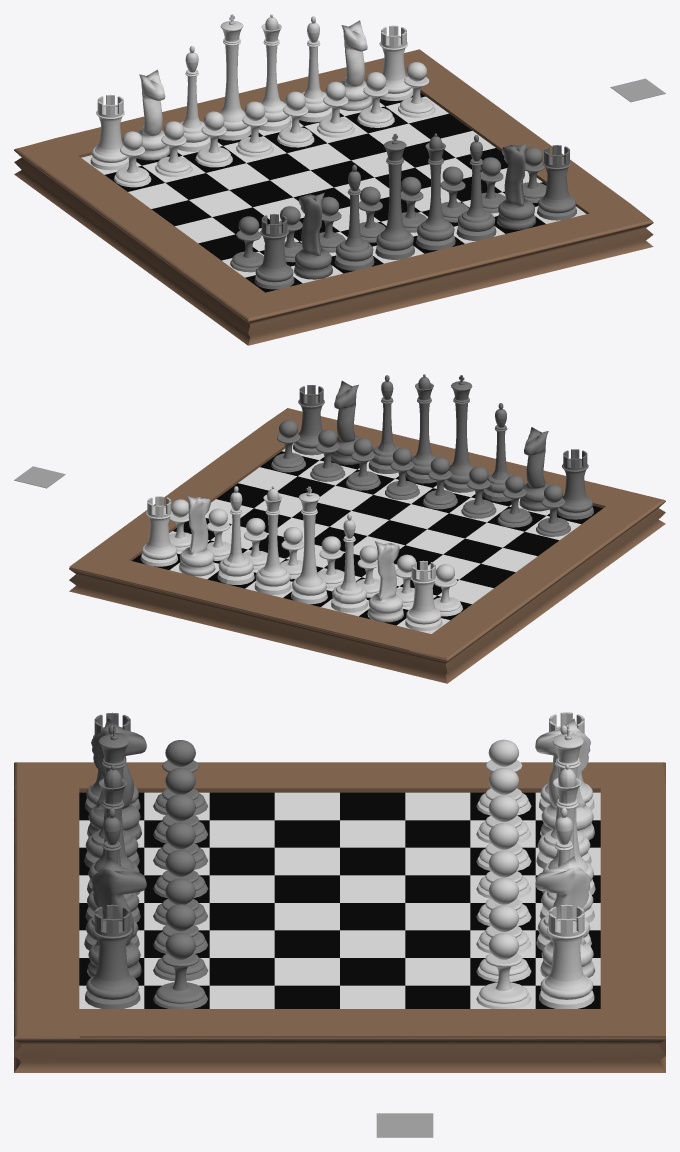
The model's file is Chess Set.fbx.
3 views of the same model, one above another, from view 1: azimuth 30°, elevation 25°; view 2: azimuth 150°, elevation 25°; view 3: azimuth 270°, elevation 25° (orthographic). The views are drawn at different scales.
Parts seen in each view (by area): view 1: polySurface4, King1, knight010, knight011, Queen1, King, Rook3, Rook2, Rook, knight08, knight09, Bishop2 (+22 smaller); view 2: polySurface4, King, knight09, knight08, Queen, King1, Rook, Rook1, Rook3, knight010, Bishop1, Bishop (+22 smaller); view 3: polySurface4, Rook2, Rook1, knight011, knight09, Pawn8, Pawn9, knight010, knight08, King1, Pawn7, Queen (+22 smaller).
Part boxes in pixels (box(x1,y1,x2,y2)): polySurface4: box(14, 49, 653, 345); King1: box(375, 133, 414, 259); knight010: box(294, 192, 332, 279); knight011: box(497, 143, 536, 229); Queen1: box(416, 133, 455, 250); King: box(218, 14, 251, 140); Rook3: box(254, 214, 294, 289); Rook2: box(537, 145, 576, 220); Rook: box(90, 94, 128, 170); knight08: box(137, 69, 170, 160); knight09: box(340, 20, 372, 110); Bishop2: box(334, 164, 374, 270); polySurface4: box(69, 408, 665, 683); King: box(291, 486, 327, 604); knight09: box(179, 495, 215, 576); knight08: box(367, 541, 403, 622); Queen: box(254, 486, 291, 594); King1: box(443, 375, 474, 492); Rook: box(405, 560, 442, 631); Rook1: box(140, 496, 177, 566); Rook3: box(557, 449, 593, 519); knight010: box(519, 427, 550, 511); Bishop1: box(217, 486, 254, 584); Bishop: box(331, 514, 367, 612); polySurface4: box(14, 762, 665, 1072); Rook2: box(85, 904, 140, 1008); Rook1: box(539, 904, 594, 1008); knight011: box(87, 856, 146, 978); knight09: box(535, 856, 594, 977); Pawn8: box(476, 932, 531, 1008); Pawn9: box(153, 932, 207, 1008); knight010: box(87, 718, 146, 839); knight08: box(535, 718, 594, 840); King1: box(87, 725, 139, 894); Pawn7: box(476, 905, 531, 981); Queen: box(539, 764, 594, 922).
Size of the model in its own units: 40.65 by 9.96 by 30.08.
